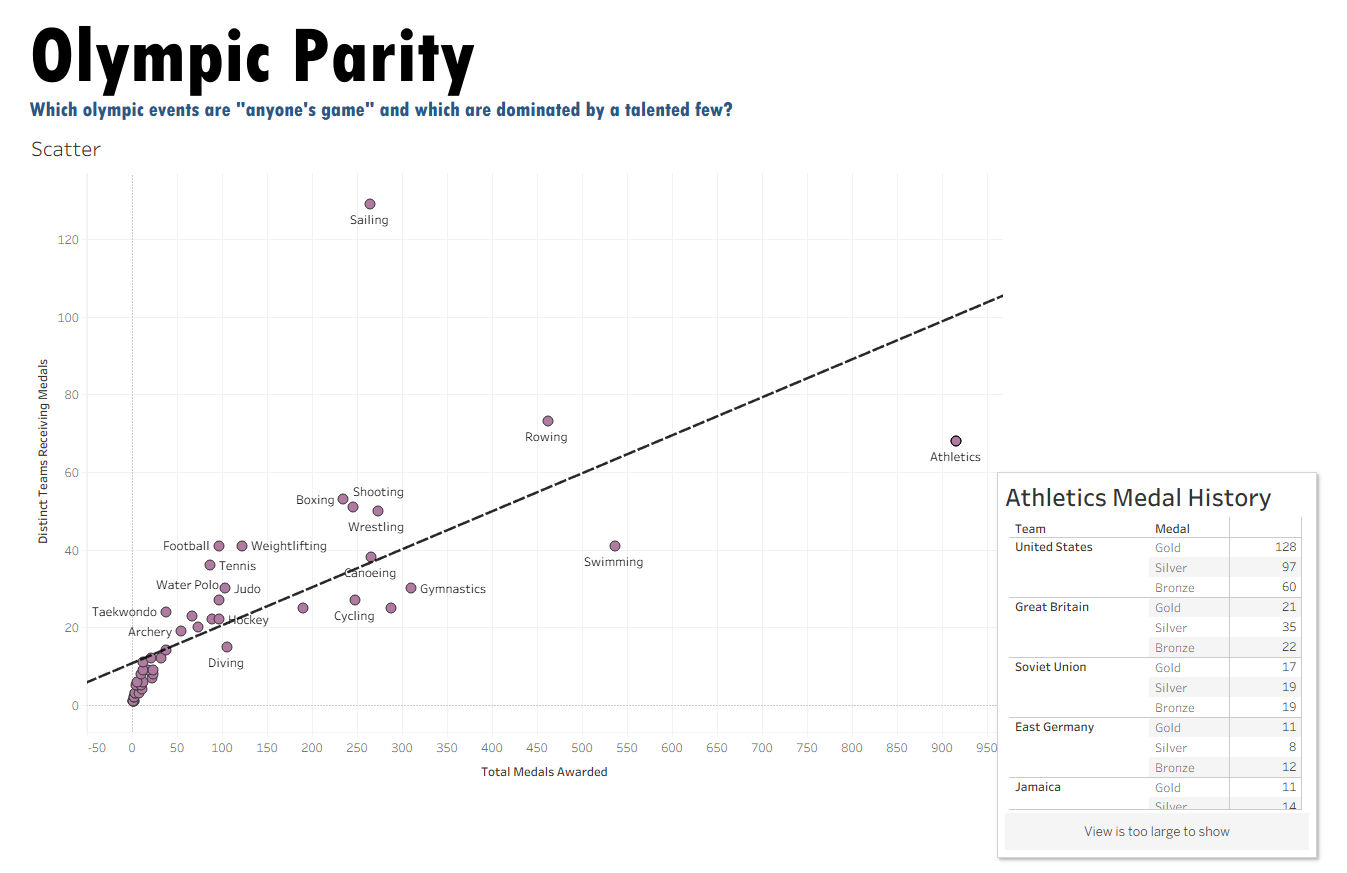

The dashboard page shown, as its layout file describes it:
{"tool":"tableau","page":{"name":"Olympic Parity Dashboard","canvas":[1000,800],"ordinal":0},"visuals":[{"type":"text","box":[8,8,984,119]},{"type":"worksheet","title":"Scatter","mark":"Circle","rows":["TEAM"],"cols":["TEAM"],"box":[8,127,984,665]}]}

Visuals, with their boxes on the page's 1000x800 design canvas (x1, y1, x2, y2). These are canvas units, not pixel positions in the 1347x873 screenshot, which may show the page scaled, cropped or inside an application window:
text: [8, 8, 992, 127]
"Scatter" worksheet (Circle marks): [8, 127, 992, 792]
